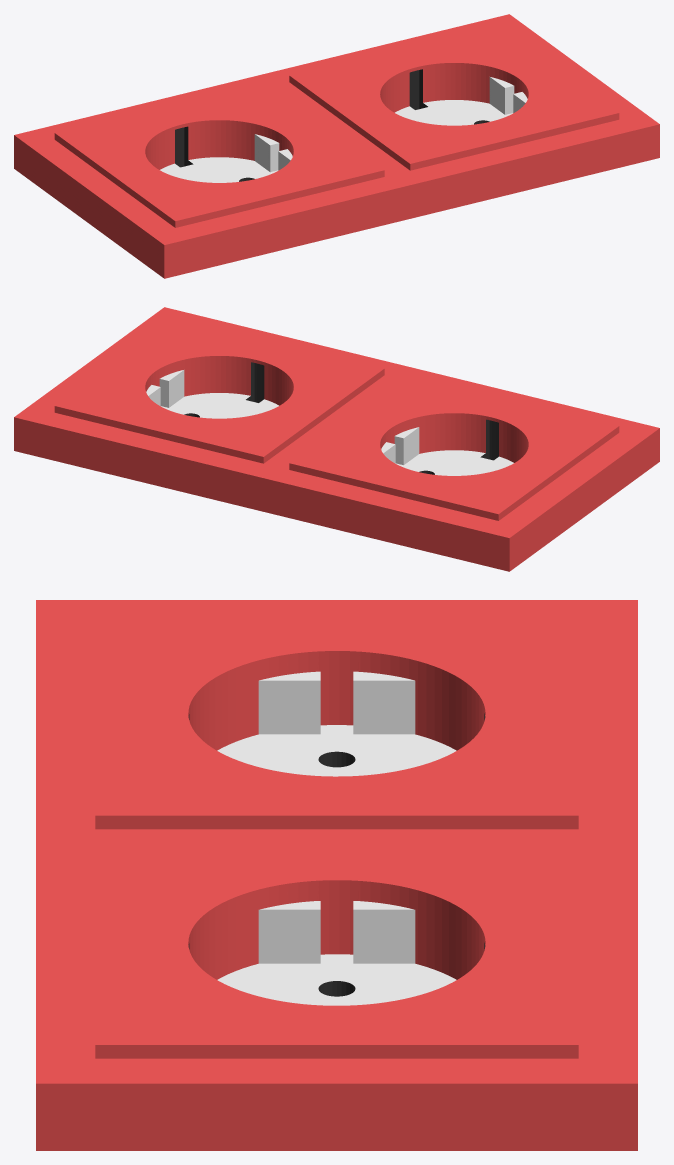
Rendered from doppelsteckdose.fbx.
The picture shows the model from 3 angles, top to bottom: view 1: azimuth 30°, elevation 25°; view 2: azimuth 150°, elevation 25°; view 3: azimuth 270°, elevation 25°; orthographic projection. The views are drawn at different scales.
Parts seen in each view (by area): view 1: Doppelsteckdose Layer0, Doppelsteckdose White, Group#53 4, Group#53 6, Group#54 *28, Group#54 2 *28; view 2: Doppelsteckdose Layer0, Doppelsteckdose White, Group#53, Group#53 5, Group#55 2 *28, Group#55 *28; view 3: Doppelsteckdose Layer0, Doppelsteckdose White, Group#53 2, Group#53 7, Group#53 3, Group#53 8, Doppelsteckdose *28.
Boxes of the visible parts, x1,y1,x2,y2 form: Doppelsteckdose Layer0: (14, 14, 659, 278); Doppelsteckdose White: (160, 100, 512, 182); Group#53 4: (489, 77, 514, 114); Group#53 6: (254, 134, 279, 172); Group#54 *28: (175, 126, 193, 167); Group#54 2 *28: (409, 69, 427, 109); Doppelsteckdose Layer0: (14, 307, 659, 571); Doppelsteckdose White: (161, 393, 513, 475); Group#53: (159, 370, 184, 407); Group#53 5: (394, 427, 419, 465); Group#55 2 *28: (246, 362, 264, 402); Group#55 *28: (480, 419, 498, 460); Doppelsteckdose Layer0: (36, 600, 637, 1150); Doppelsteckdose White: (217, 725, 456, 1005); Group#53 2: (353, 671, 415, 734); Group#53 7: (258, 671, 320, 734); Group#53 3: (258, 901, 320, 963); Group#53 8: (353, 901, 415, 963); Doppelsteckdose *28: (318, 751, 355, 996).
Size of the model in its own units: 15.4 by 1.7 by 8.1.
